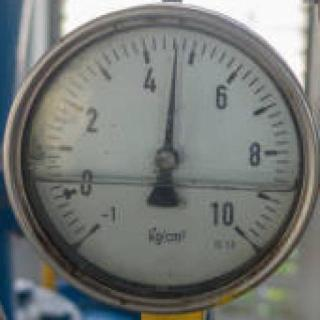gauge: (0, 0, 320, 320), (204, 197, 256, 252), (76, 201, 126, 251), (152, 146, 180, 173), (168, 37, 182, 55)
